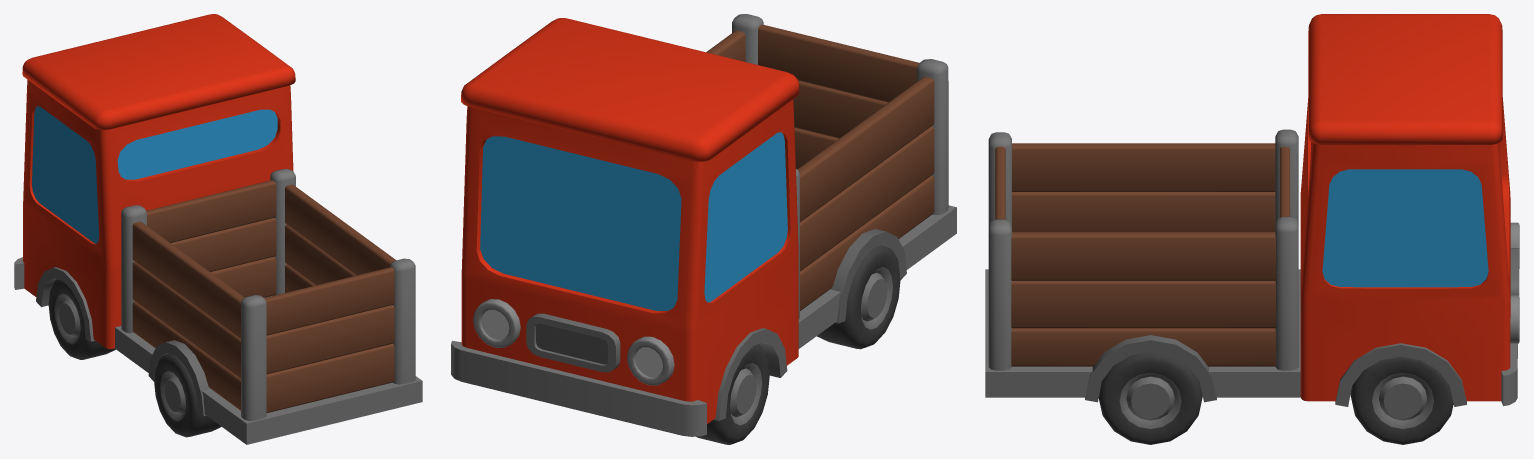
Rendered from Vehicle2.fbx.
The picture shows the model from 3 angles, left to right: view 1: azimuth 30°, elevation 25°; view 2: azimuth 150°, elevation 25°; view 3: azimuth 270°, elevation 25°; orthographic projection. The views are drawn at different scales.
Visible parts, largest first — view 1: Cube.048, Cylinder.049, Cylinder.029; view 2: Cube.048, Cylinder.049, Cylinder.029; view 3: Cube.048, Cylinder.049, Cylinder.029.
Boxes of the visible parts, x1,y1,x2,y2 form: Cube.048: (14, 14, 422, 444); Cylinder.049: (154, 353, 221, 437); Cylinder.029: (48, 279, 115, 359); Cube.048: (451, 14, 956, 436); Cylinder.049: (817, 245, 900, 349); Cylinder.029: (696, 344, 769, 444); Cube.048: (985, 14, 1519, 406); Cylinder.049: (1098, 352, 1202, 444); Cylinder.029: (1350, 356, 1453, 444).
Bounding box in the file's own units: 4.29 × 8.07 × 5.44.
